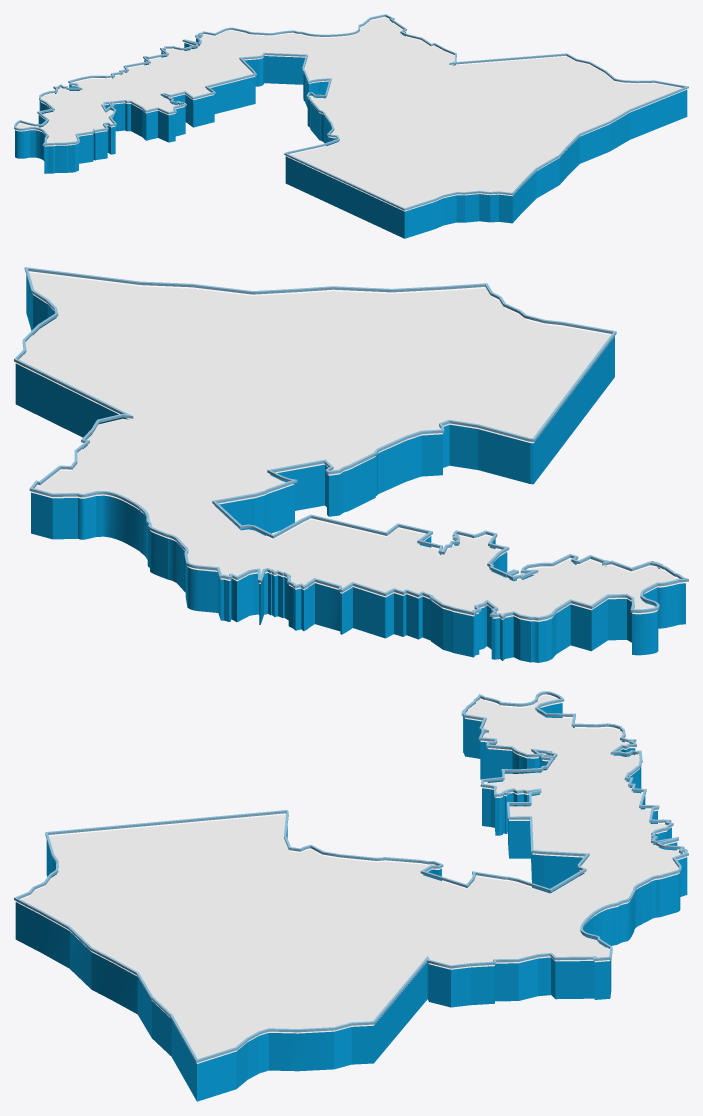
3 renders of one model, top to bottom at view 1: azimuth 30°, elevation 25°; view 2: azimuth 150°, elevation 25°; view 3: azimuth 270°, elevation 25°, orthographic. The views are drawn at different scales.
Visible parts, largest first — view 1: celling, slide, 扫描; view 2: celling, slide, 扫描; view 3: celling, slide, 扫描.
Part boxes in pixels (x1,y1,x2,y2): celling: (15, 17, 686, 211); slide: (15, 21, 687, 238); 扫描: (14, 14, 688, 210); celling: (16, 272, 685, 621); slide: (15, 275, 685, 662); 扫描: (14, 267, 688, 620); celling: (16, 695, 686, 1063); slide: (15, 703, 687, 1101); 扫描: (14, 691, 688, 1062).
Bounding box in the file's own units: 1051 × 55.28 × 811.
